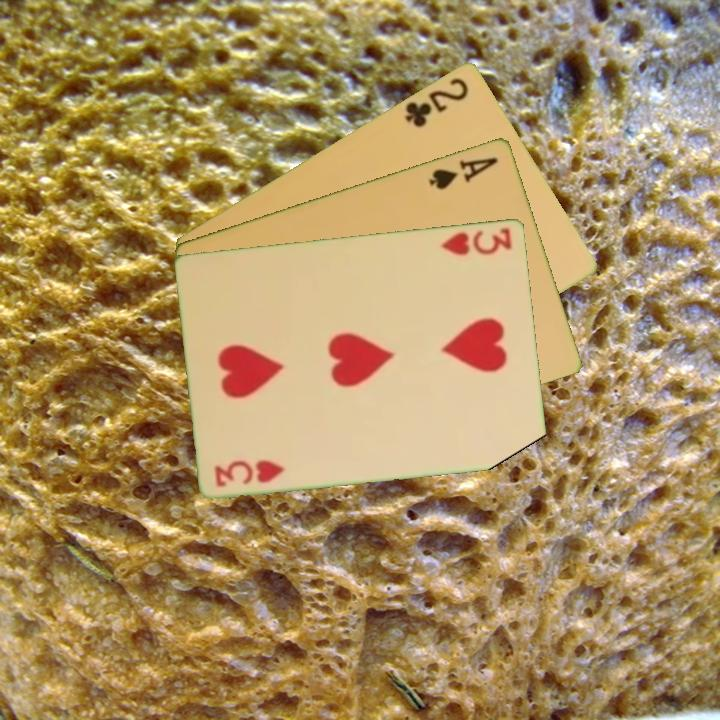2c: (401, 73, 472, 130)
3h: (438, 224, 515, 258), (211, 456, 289, 489)
As: (425, 153, 501, 192)
